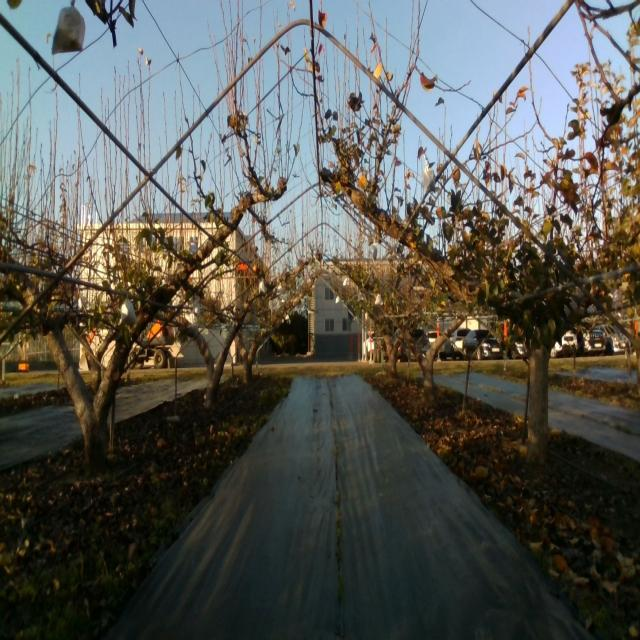pearbags: (51, 6, 85, 55), (119, 298, 137, 328), (422, 164, 436, 196)
